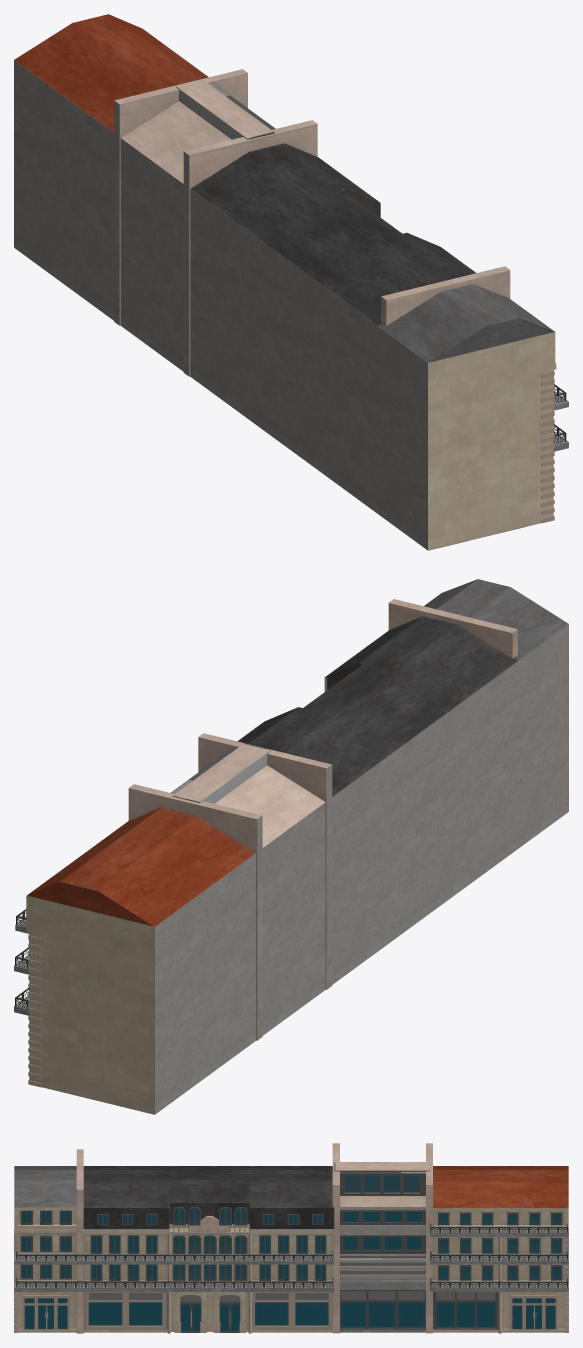
Rendered from Bat_Canneb_1.fbx.
3 views of the same model, one above another, from view 1: azimuth 30°, elevation 25°; view 2: azimuth 150°, elevation 25°; view 3: azimuth 270°, elevation 25° (orthographic). The views are drawn at different scales.
Parts seen in each view (by area): view 1: Bat_Canneb_1; view 2: Bat_Canneb_1; view 3: Bat_Canneb_1.
Boxes of the visible parts, x1,y1,x2,y2 form: Bat_Canneb_1: (14,14,568,550); Bat_Canneb_1: (14,579,568,1114); Bat_Canneb_1: (14,1143,568,1333).
Bounding box in the file's own units: 1171 × 1758 × 5925.
